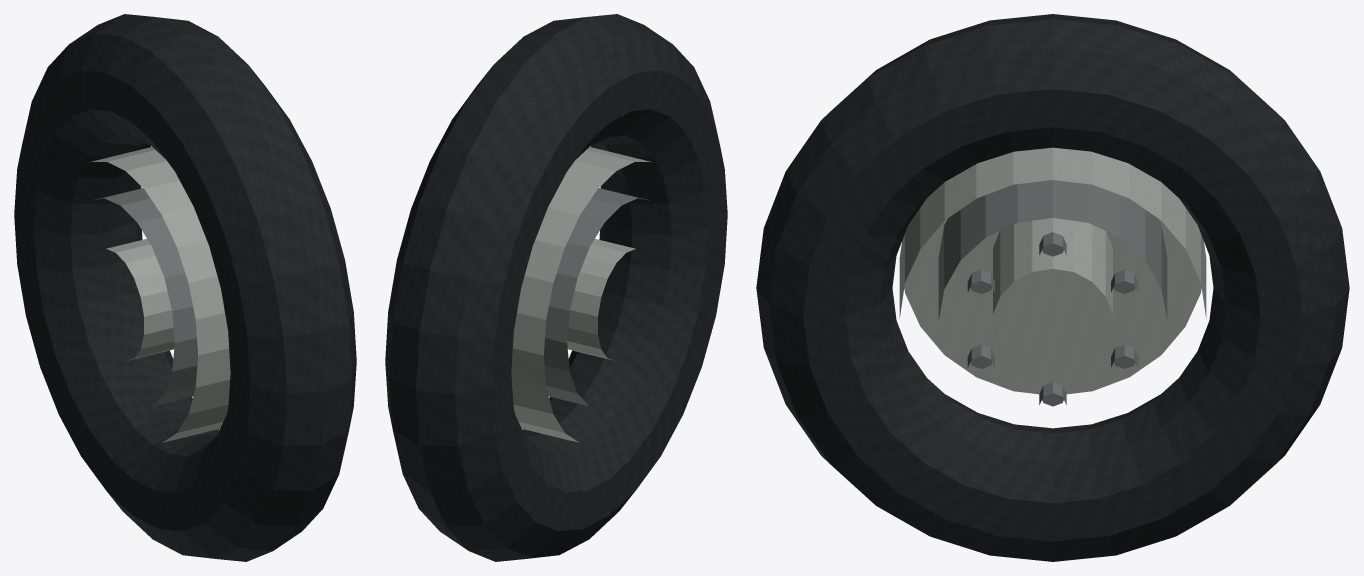
File: rv_wheel.gltf
3 views of the same model, side by side, from view 1: azimuth 30°, elevation 25°; view 2: azimuth 150°, elevation 25°; view 3: azimuth 270°, elevation 25° (orthographic). The views are drawn at different scales.
Visible parts, largest first — view 1: DetailedWheelAssembly; view 2: DetailedWheelAssembly; view 3: DetailedWheelAssembly.
Boxes of the visible parts, <box> form: DetailedWheelAssembly: <box>14,14,356,561</box>; DetailedWheelAssembly: <box>385,14,727,561</box>; DetailedWheelAssembly: <box>756,14,1349,561</box>.
Size of the model in its own units: 0.3825 by 1.22 by 1.22.
3 materials, 2 textured.
